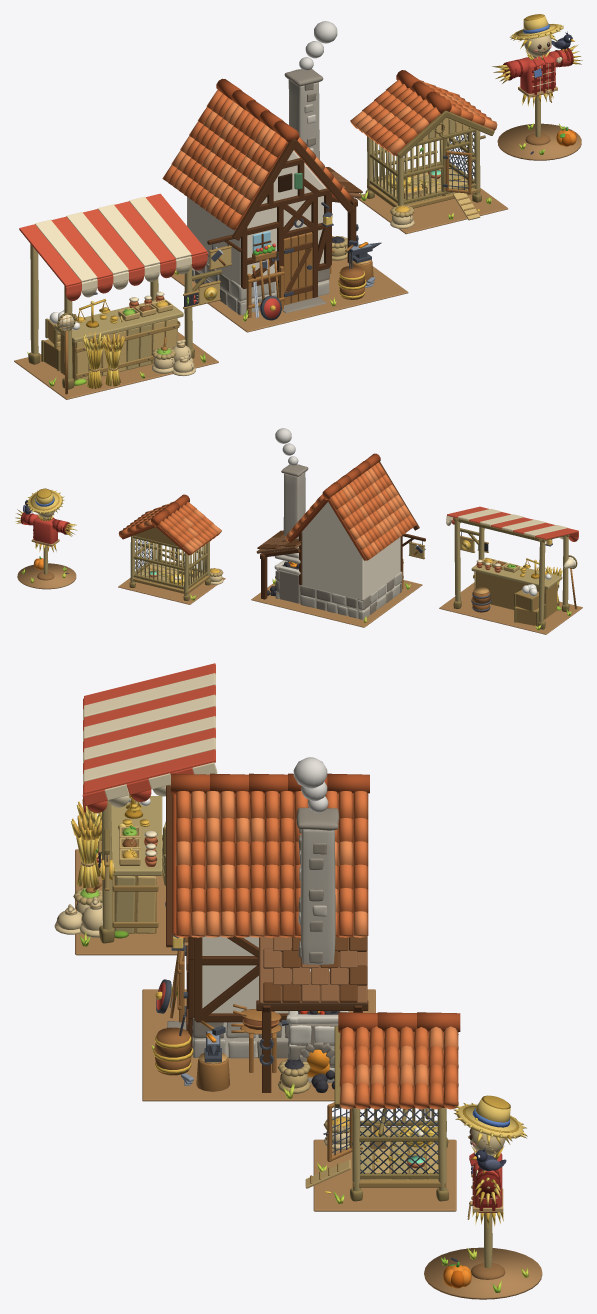
File: batiments.glb
The picture shows the model from 3 angles, top to bottom: view 1: azimuth 30°, elevation 25°; view 2: azimuth 150°, elevation 25°; view 3: azimuth 270°, elevation 25°; orthographic projection. The views are drawn at different scales.
Visible parts, largest first — view 1: poutre, toile, tuile, toile.001, mur, tuile.001, tuile.004, terre_battue.001, terre_battue, terre_battue.002, barreau, poteau (+32 smaller); view 2: mur, tuile, tuile.001, terre_battue, tuile.004, poteau, terre_battue.001, barreau, comptoir, cheminee, pierre, toile (+22 smaller); view 3: tuile, toile, toile.001, tuile.004, terre_battue.001, tuile.001, poutre, terre_battue.002, cheminee, terre_battue.003, mur, tuile.002 (+27 smaller).
Part boxes in pixels (left/top/right/bottom): poutre: left=232, top=138, right=357, bottom=297; toile: left=19, top=193, right=208, bottom=294; tuile: left=162, top=90, right=351, bottom=230; toile.001: left=35, top=196, right=191, bottom=291; mur: left=187, top=150, right=327, bottom=304; tuile.001: left=171, top=101, right=325, bottom=215; tuile.004: left=362, top=80, right=491, bottom=151; terre_battue.001: left=171, top=258, right=408, bottom=332; terre_battue: left=14, top=332, right=218, bottom=399; terre_battue.002: left=356, top=188, right=508, bottom=234; barreau: left=372, top=132, right=472, bottom=200; poteau: left=30, top=244, right=192, bottom=379; mur: left=302, top=502, right=400, bottom=618; tuile: left=291, top=462, right=417, bottom=560; tuile.001: left=284, top=467, right=410, bottom=553; terre_battue: left=439, top=582, right=582, bottom=634; tuile.004: left=118, top=501, right=218, bottom=546; poteau: left=454, top=519, right=568, bottom=622; terre_battue.001: left=251, top=580, right=422, bottom=627; barreau: left=136, top=538, right=206, bottom=586; comptoir: left=476, top=572, right=556, bottom=617; cheminee: left=274, top=472, right=305, bottom=563; pierre: left=275, top=571, right=402, bottom=619; toile: left=447, top=506, right=578, bottom=539; tuile: left=175, top=791, right=368, bottom=937; toile: left=82, top=663, right=215, bottom=805; toile.001: left=83, top=673, right=217, bottom=800; tuile.004: left=339, top=1026, right=458, bottom=1109; terre_battue.001: left=142, top=989, right=375, bottom=1101; tuile.001: left=175, top=791, right=368, bottom=937; poutre: left=166, top=785, right=368, bottom=1092; terre_battue.002: left=313, top=1139, right=456, bottom=1211; cheminee: left=300, top=829, right=335, bottom=971; terre_battue.003: left=424, top=1247, right=542, bottom=1299; mur: left=194, top=936, right=288, bottom=1057; tuile.002: left=171, top=773, right=369, bottom=794.
Bounding box in the file's own units: 11.24 × 3.82 × 5.12.
